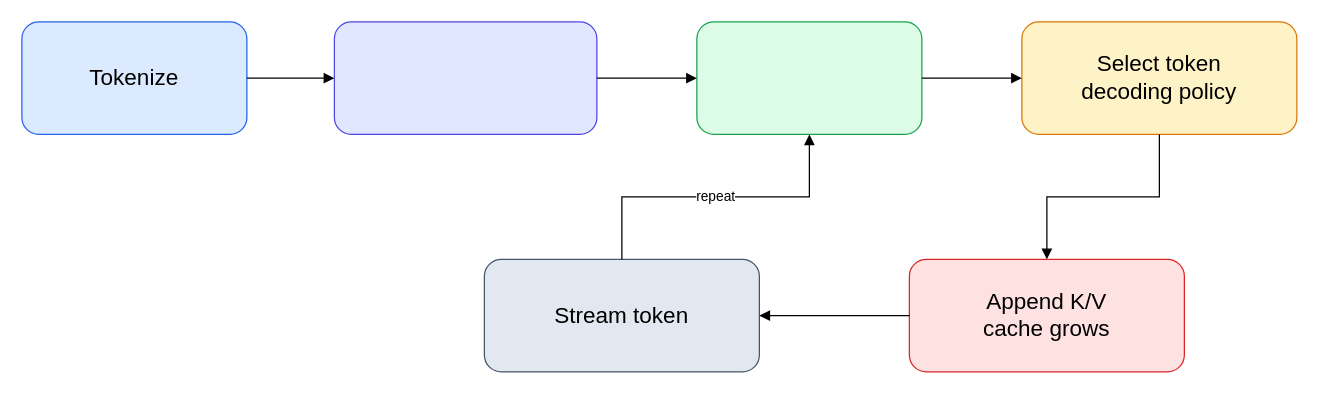
Image size: 1319x394. Some labels were removed from this diagram. The centre of each missing label's shape, as x and y in pixels:
"Logits" goes at (x=809, y=77).
"Prefill prompt build K/V state" goes at (x=465, y=77).
